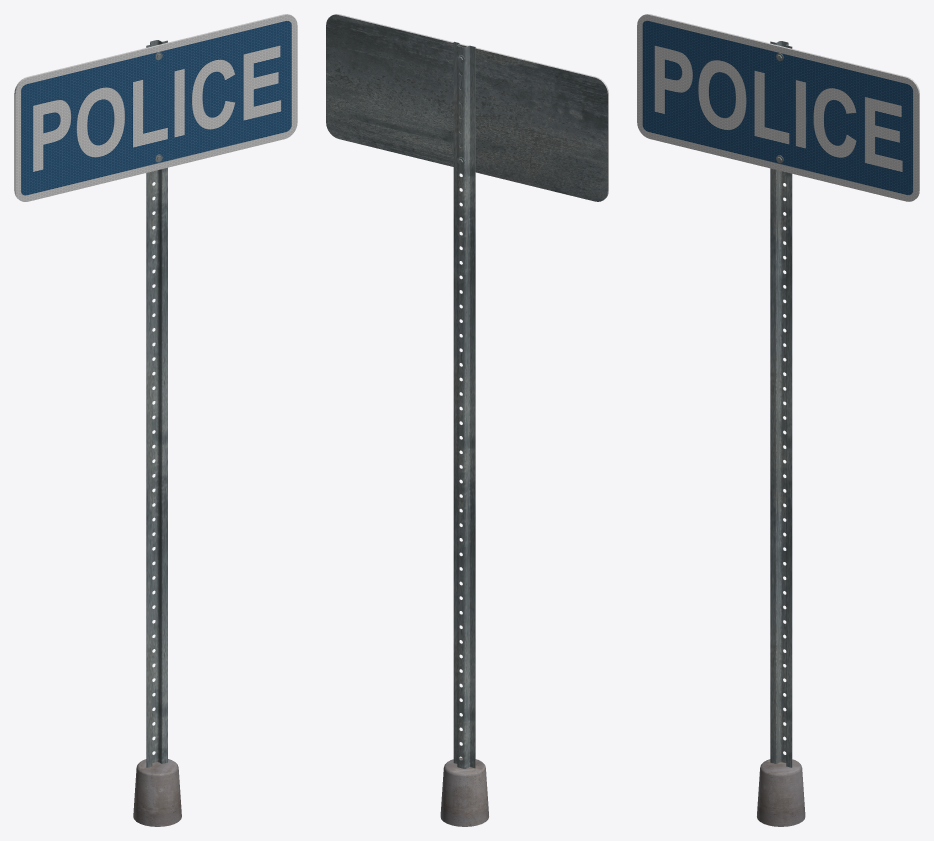
Rendered from policesign_nsoc.obj.
The picture shows the model from 3 angles, left to right: view 1: azimuth 30°, elevation 25°; view 2: azimuth 150°, elevation 25°; view 3: azimuth 330°, elevation 25°; orthographic projection.
Parts seen in each view (by area): view 1: sign_police; view 2: sign_police; view 3: sign_police.
Boxes of the visible parts, x1,y1,x2,y2 form: sign_police: (14, 14, 297, 826); sign_police: (326, 14, 608, 826); sign_police: (637, 14, 919, 826).
Size of the model in its own units: 39.06 by 102 by 5.84.
Materials: 3 (3 with a texture image).
